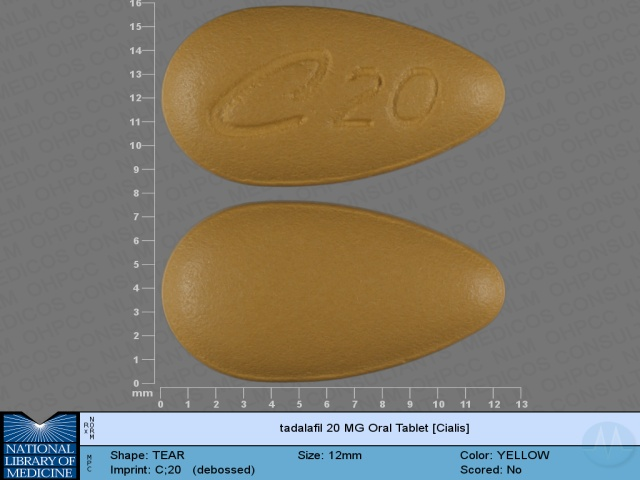0: (383, 64, 443, 130)
2: (335, 65, 384, 133)
C: (206, 41, 335, 141)
